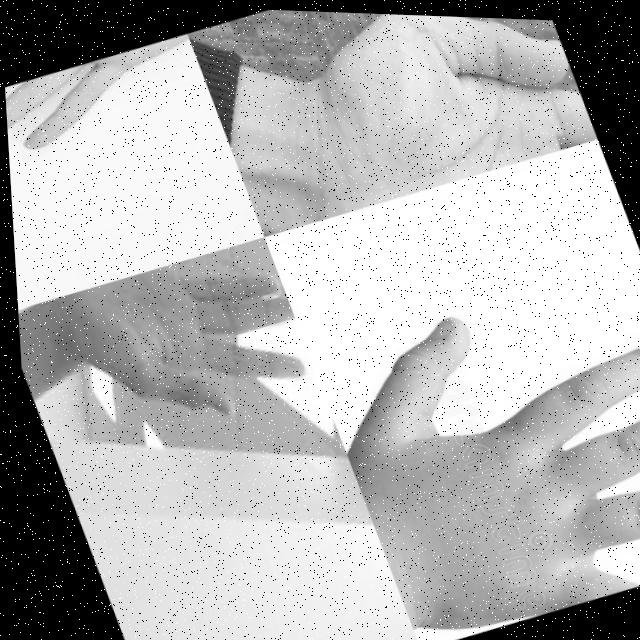hand: (300, 245, 640, 640), (239, 7, 600, 229), (41, 229, 322, 464), (1, 27, 233, 233)
